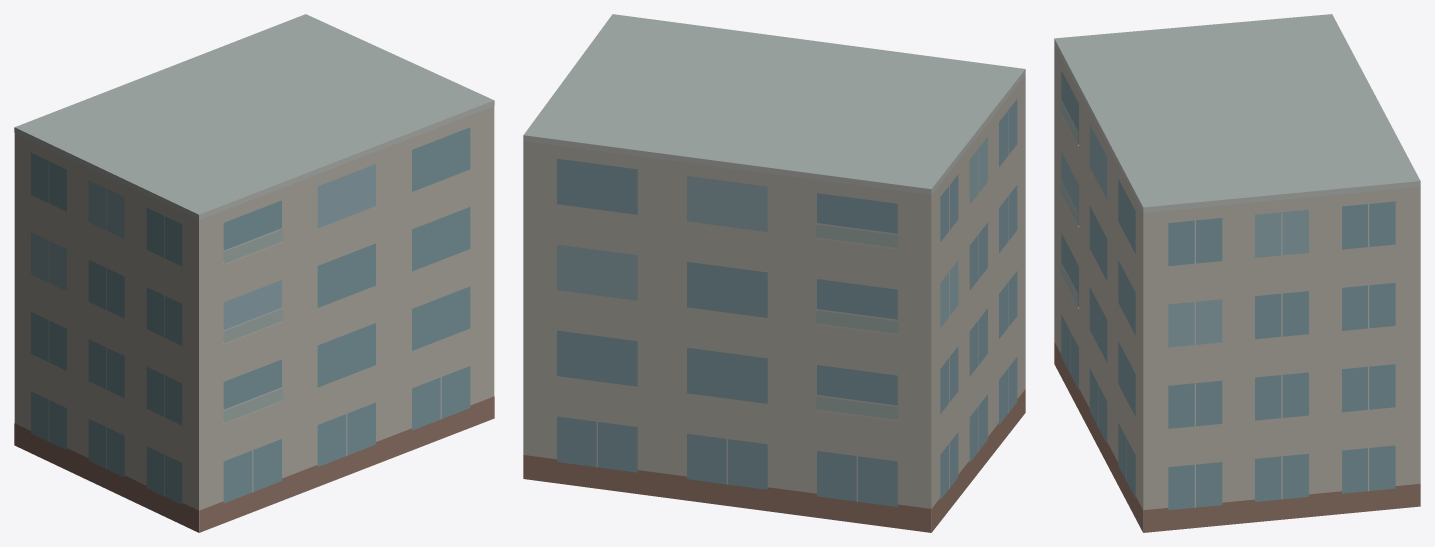
The model's file is survey-upis-32713629.glb.
The picture shows the model from 3 angles, left to right: view 1: azimuth 30°, elevation 25°; view 2: azimuth 150°, elevation 25°; view 3: azimuth 270°, elevation 25°; orthographic projection. The views are drawn at different scales.
Visible parts, largest first — view 1: survey-upis-32713629.tmp; view 2: survey-upis-32713629.tmp; view 3: survey-upis-32713629.tmp.
Boxes of the visible parts, x1,y1,x2,y2 form: survey-upis-32713629.tmp: (14,14,494,532); survey-upis-32713629.tmp: (523,14,1025,532); survey-upis-32713629.tmp: (1054,14,1420,532).
Bounding box in the file's own units: 18.11 × 14.2 × 14.5.
